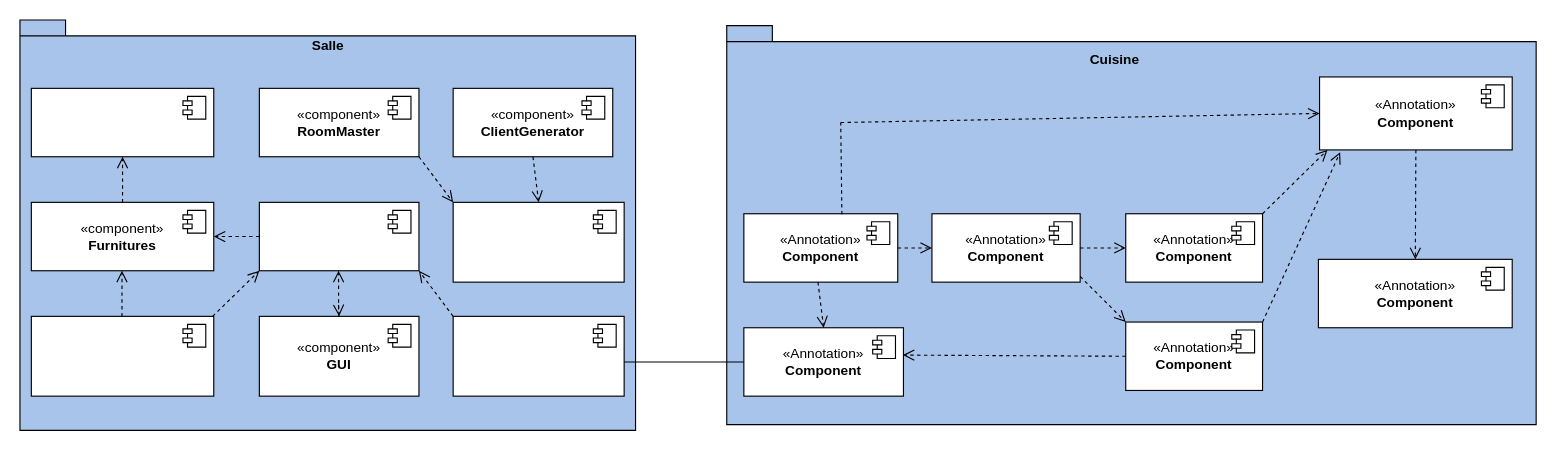
Image size: 1556x450. Some labels were removed from this diagram. The shapes that lost their labels are listed below. From the top down, each one's centre as x and y in pixels, then its label:
the point at 122,122: «component» DAO
the point at 338,236: «component» Room
the point at 538,241: «component» ClientPool
the point at 122,355: «component» RankChief
the point at 538,355: «component» ClientService
